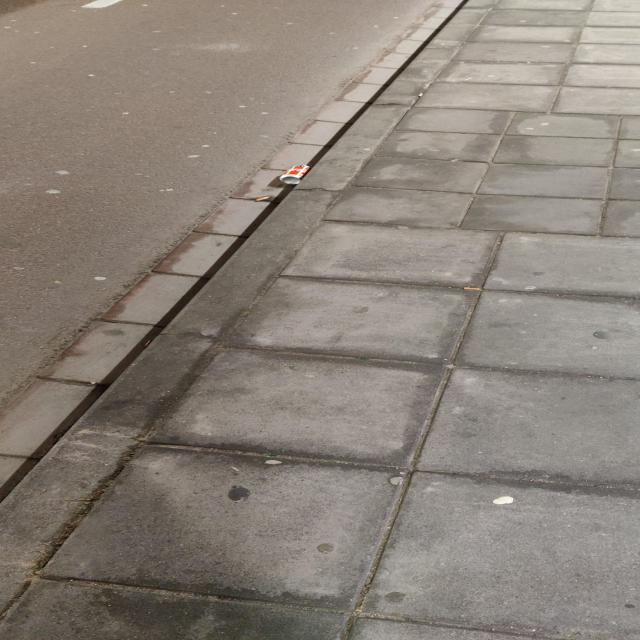litter: (269, 159, 326, 187)
